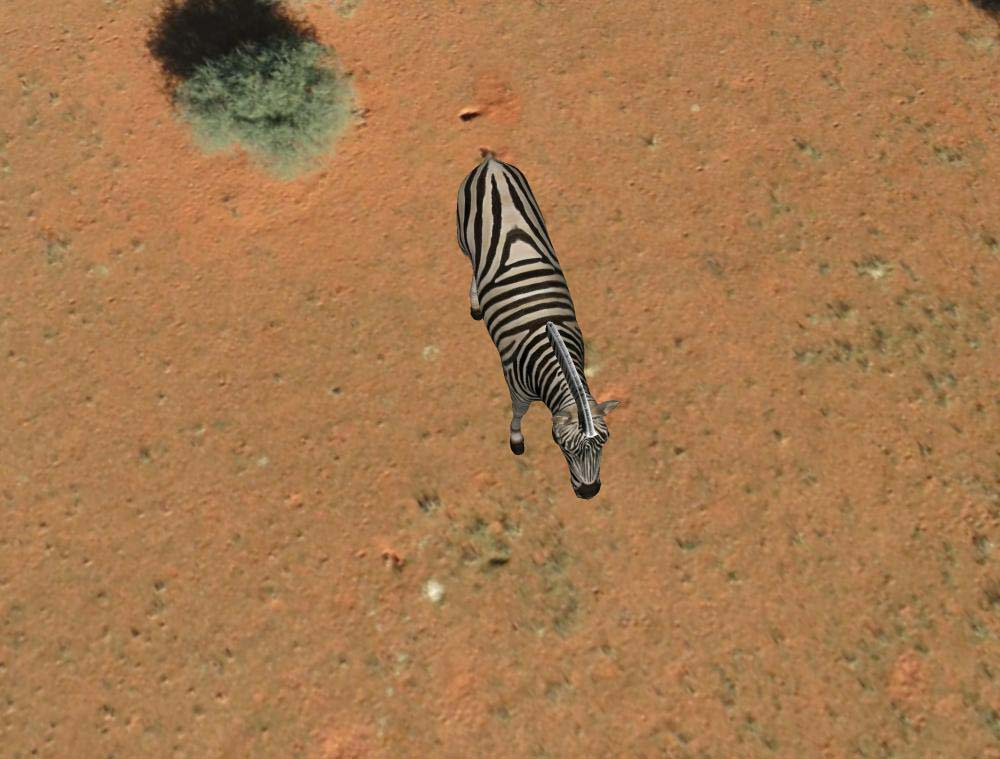zebra: (450, 156, 620, 505)
